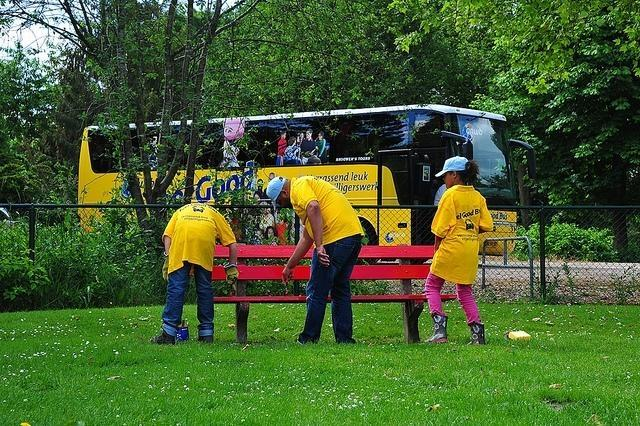bus: (80, 106, 522, 257)
